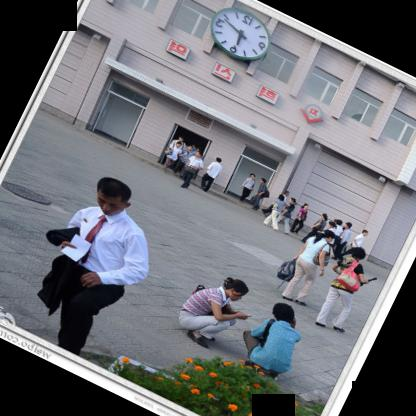backpack: (276, 261, 296, 283)
handbag: (335, 261, 361, 294), (259, 319, 277, 349), (312, 243, 327, 266), (183, 165, 198, 176), (191, 285, 205, 295), (312, 220, 323, 232), (164, 150, 173, 156)
